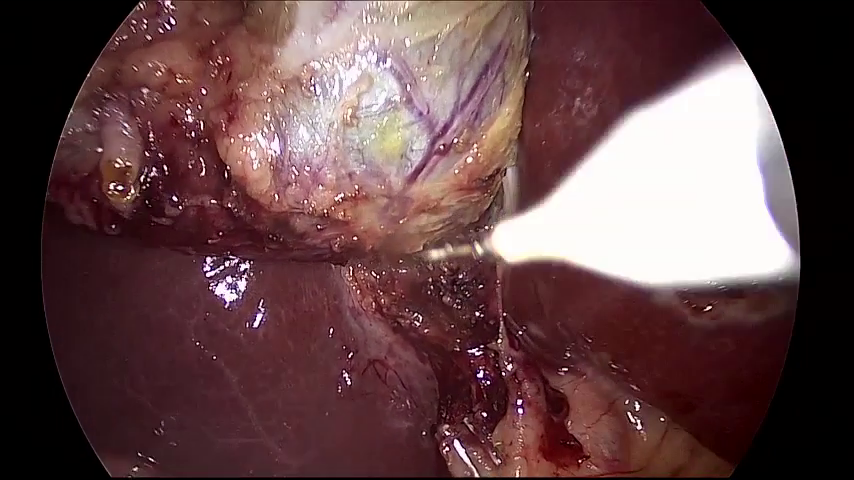grasper: (419, 227, 496, 260)
lhook: (494, 50, 800, 284)
